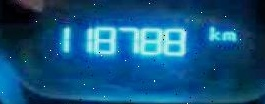1: (59, 25, 69, 52), (82, 26, 92, 52)
7: (117, 26, 137, 52)
8: (137, 26, 160, 53), (162, 26, 183, 55), (92, 25, 113, 52)
X: (207, 25, 218, 40), (220, 30, 235, 40)
